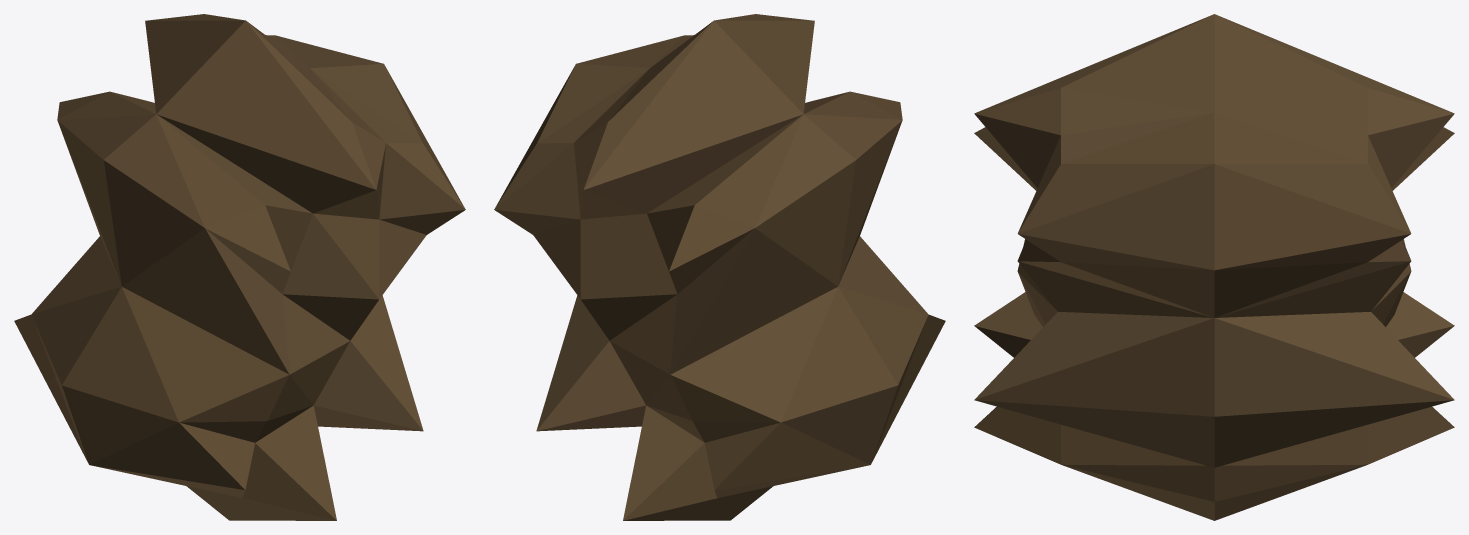
Rendered from ORE_GROUND_GOLD.OBJ.
3 views of the same model, side by side, from view 1: azimuth 30°, elevation 25°; view 2: azimuth 150°, elevation 25°; view 3: azimuth 270°, elevation 25° (orthographic). The views are drawn at different scales.
Parts seen in each view (by area): view 1: ORE_GROUND_GOLD; view 2: ORE_GROUND_GOLD; view 3: ORE_GROUND_GOLD.
Part boxes in pixels (x1,y1,x2,y2): ORE_GROUND_GOLD: (14,14,465,520); ORE_GROUND_GOLD: (494,14,945,520); ORE_GROUND_GOLD: (974,14,1454,520).
Size of the model in its own units: 0.9069 by 1.22 by 1.04.
